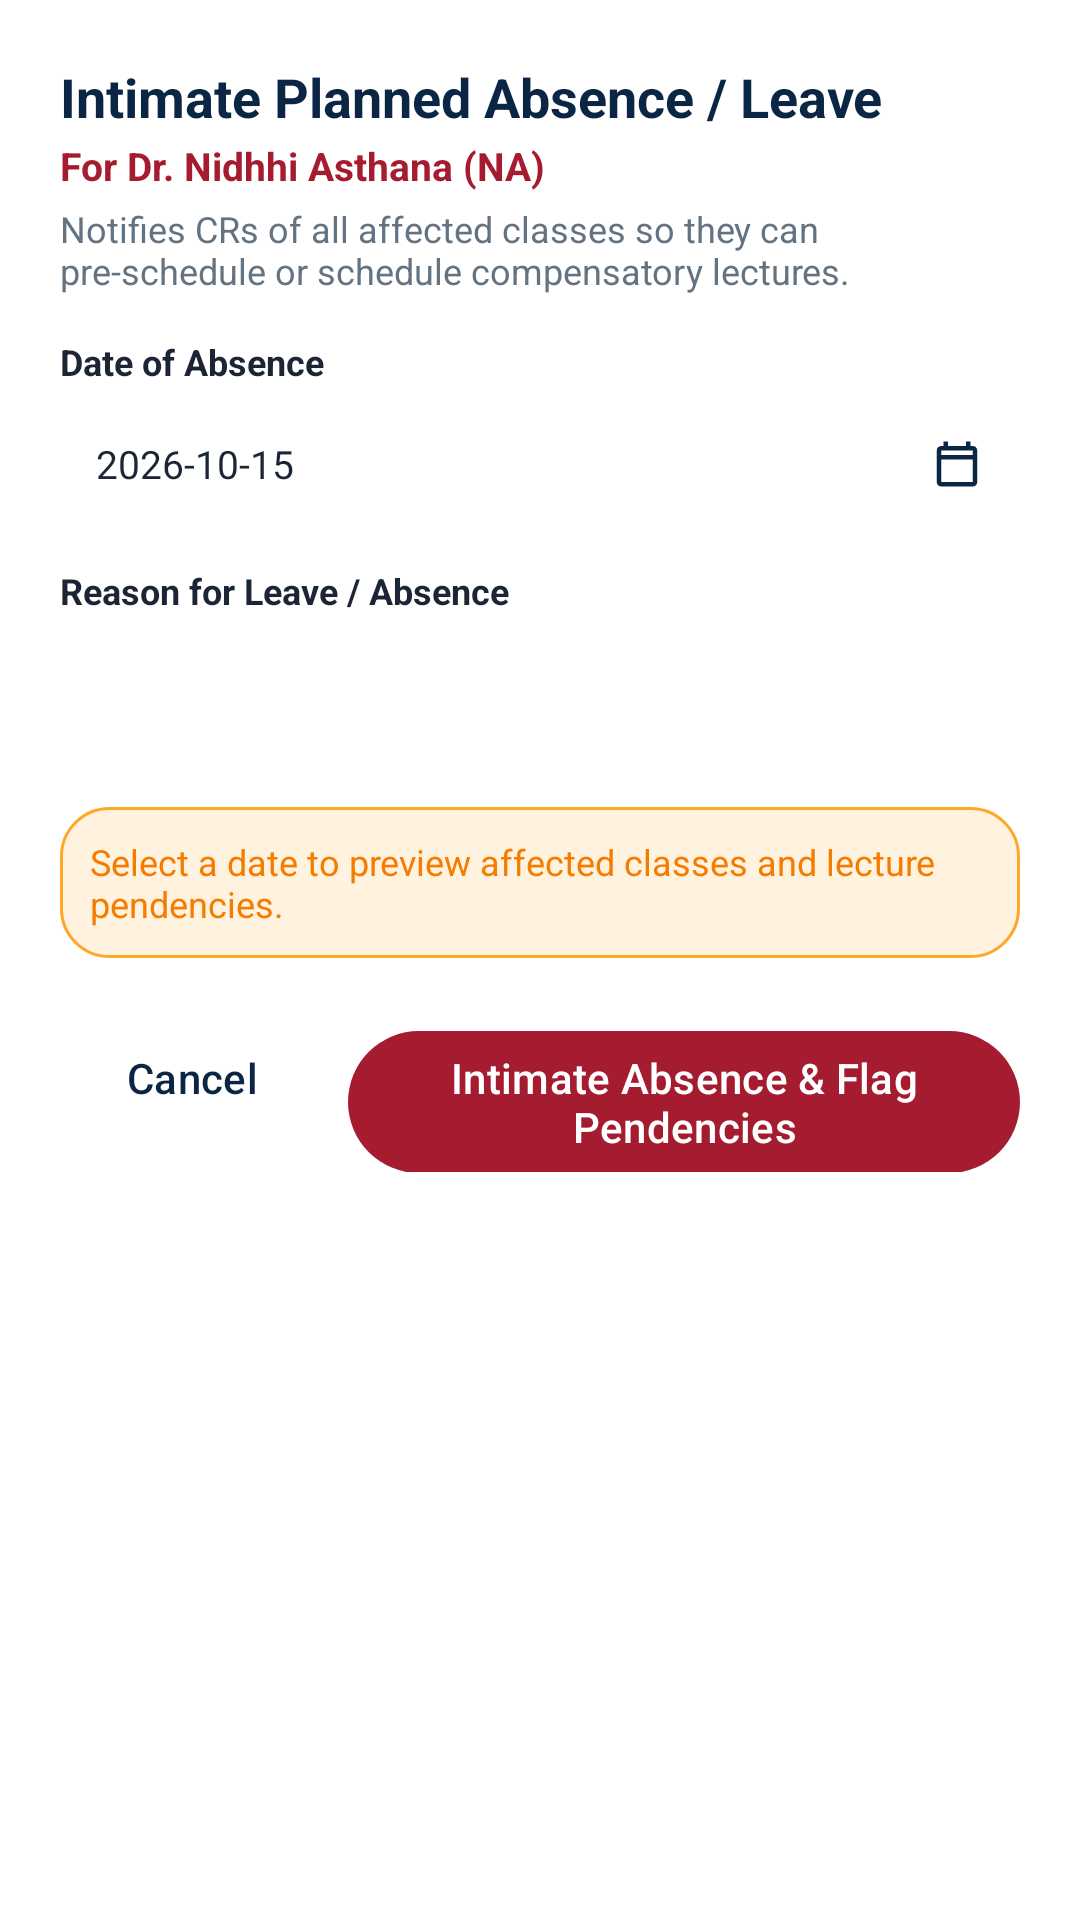

Named icons in this screenshot (1080*1920) and their bounding boxes, (x1, y1, x2, y2):
calendar: (936, 441, 978, 487)
